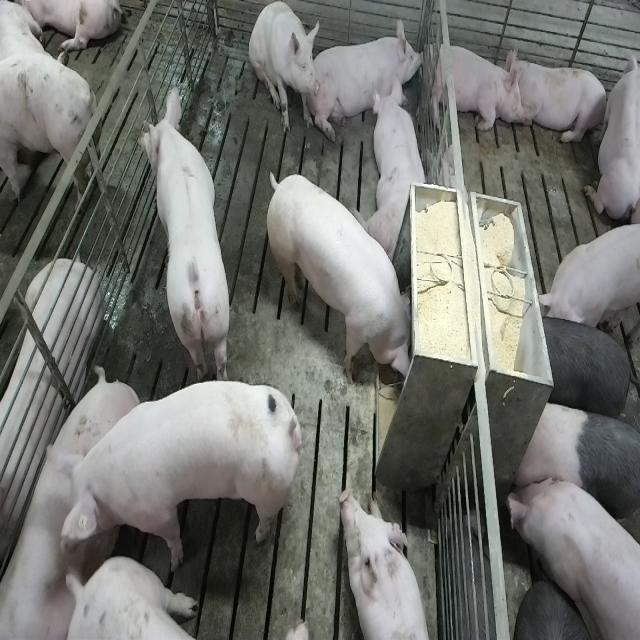Feeding: (271, 170, 421, 392)
Lateral_lying: (0, 255, 102, 629)
Sitting: (249, 2, 321, 137)
Standing: (36, 368, 304, 571), (138, 81, 232, 379), (504, 470, 638, 640), (511, 400, 638, 564), (0, 60, 103, 227), (532, 222, 636, 338), (63, 553, 200, 639), (537, 310, 638, 424)
Sternal_lying: (336, 487, 432, 640), (315, 14, 424, 134), (367, 78, 430, 257), (425, 36, 522, 136), (585, 42, 637, 225), (510, 52, 609, 148)
